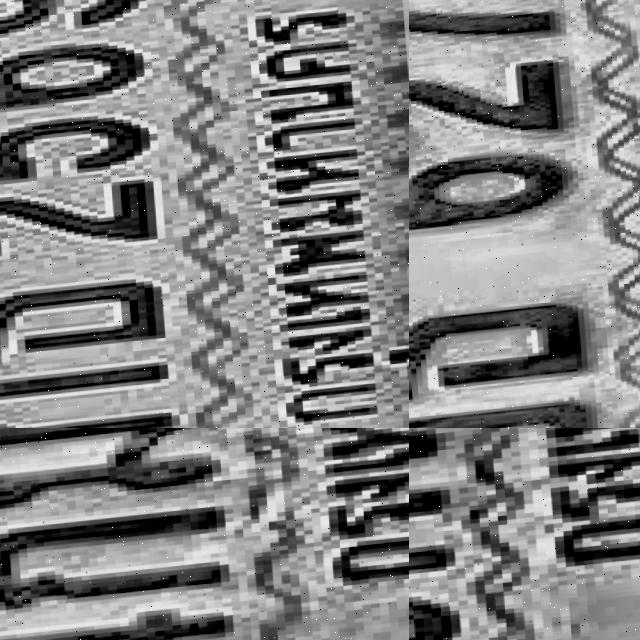license-plate: (0, 0, 409, 428), (409, 0, 640, 428), (0, 428, 409, 640), (409, 428, 640, 640)
